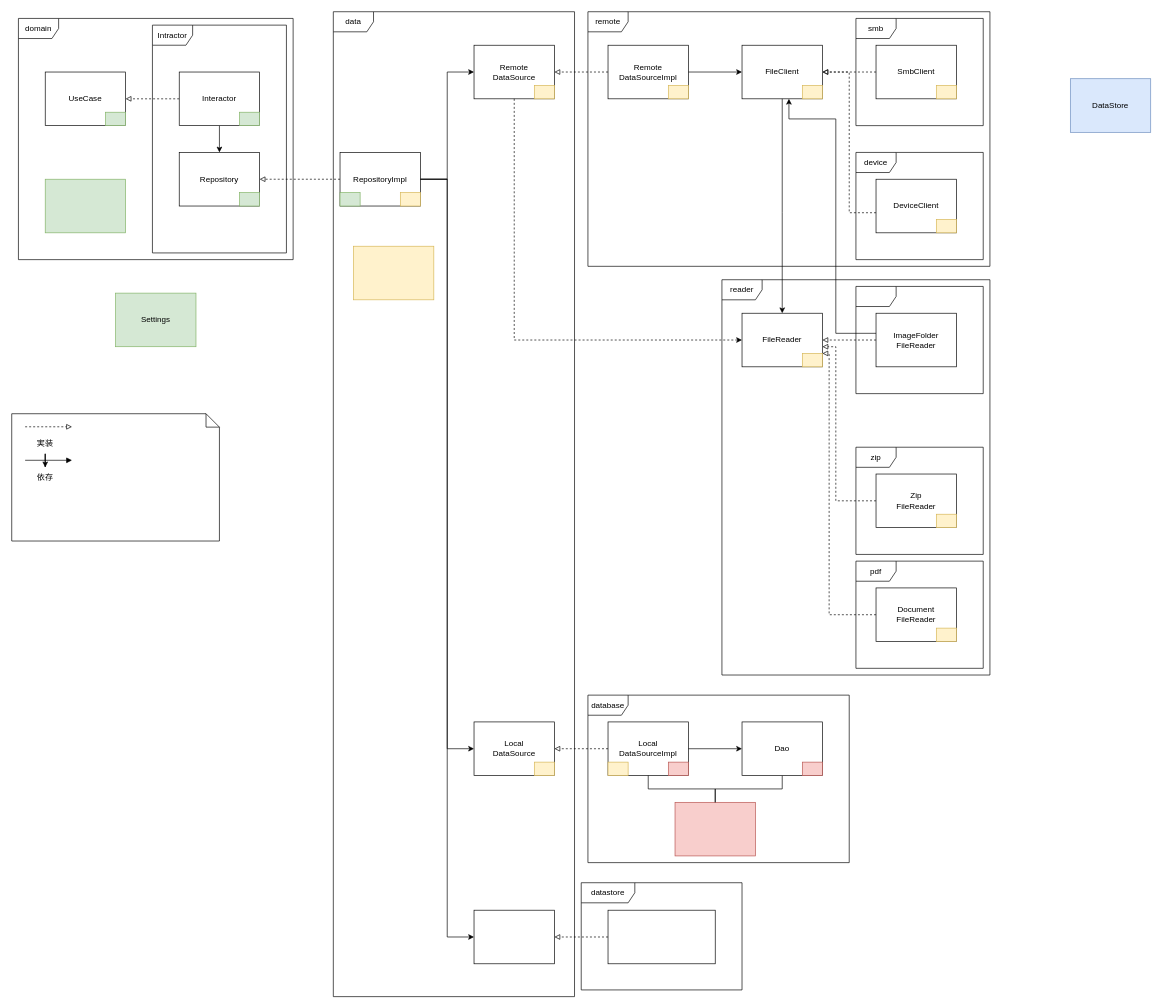
Image size: 1162x1008. Some labels were removed from this diagram. Here are the shapes that lost their labels. From the top down, the centre of each, then its label:
[85,206]: Entity
[393,273]: Model
[919,340]: folder
[714,829]: DB-Entity
[513,937]: Datastore DataSource
[661,937]: Datastore DataSourceImpl
